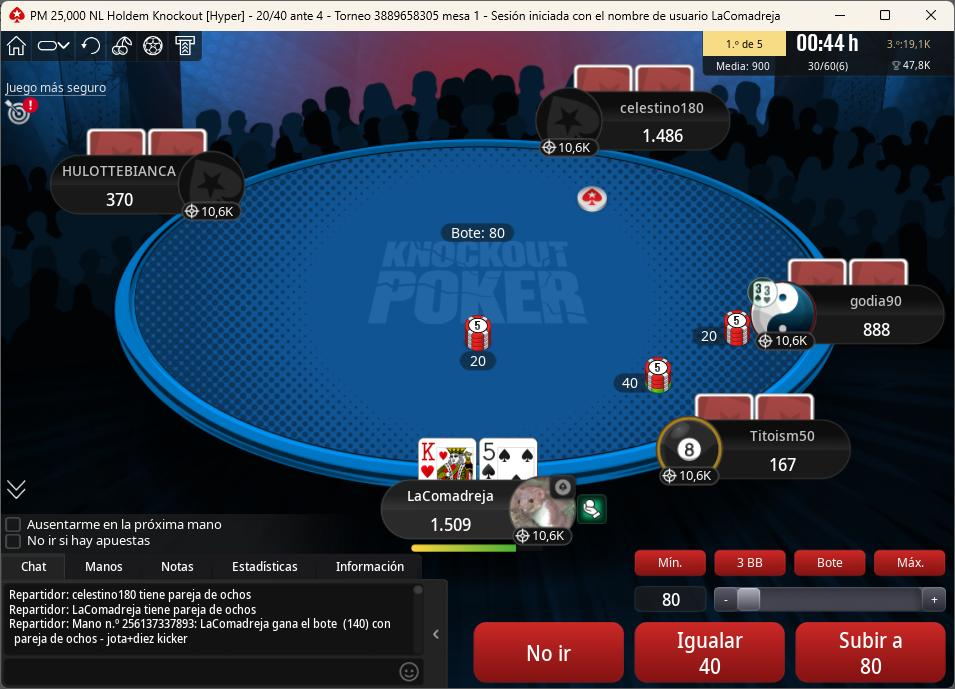ButtonCall: (632, 619, 792, 686)
ButtonFold: (471, 619, 626, 683)
ButtonMaxRaise: (874, 550, 948, 579)
ButtonMinRaise: (631, 545, 710, 579)
ButtonPotRaise: (793, 546, 869, 580)
ButtonRaise: (789, 619, 952, 684)
Dealer: (575, 185, 609, 213)
HiddenCards: (83, 131, 208, 161), (693, 392, 818, 422), (572, 66, 698, 95), (786, 257, 911, 286)
Player: (652, 417, 851, 487), (748, 281, 945, 350), (48, 152, 246, 218), (536, 92, 727, 159)
PlayerBet: (611, 353, 680, 406), (688, 307, 756, 349)
PlayerChips: (764, 454, 808, 474), (99, 190, 140, 211), (859, 321, 899, 342)
Pot: (439, 217, 517, 246)
PrincipalCards: (414, 437, 539, 484)
PrincipalCards1: (412, 435, 480, 482)
PrincipalCards2: (479, 436, 540, 485)
PrincipalPlayer: (378, 472, 578, 549)
SmallBigBlind: (246, 5, 332, 28)
TablePot: (458, 309, 506, 378)
